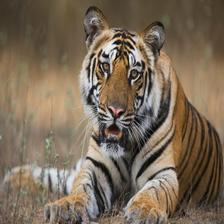tiger: (79, 4, 221, 224)
